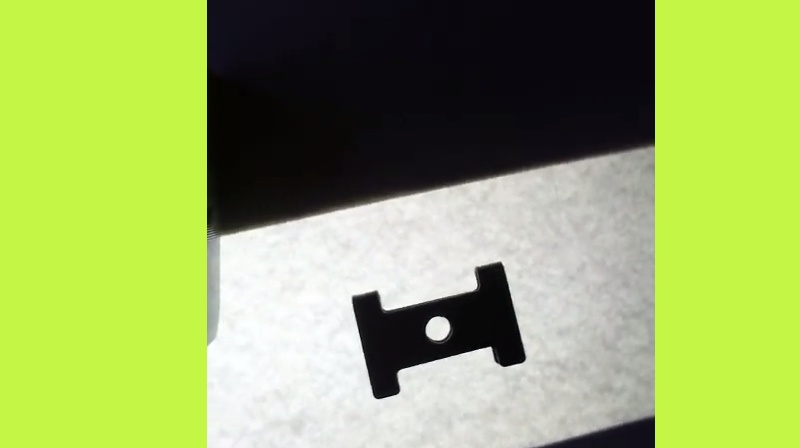O002: (348, 257, 528, 407)
